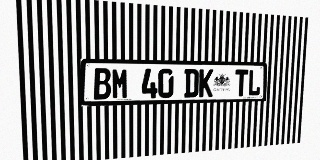0: (158, 69, 174, 98)
4: (142, 68, 158, 98)
B: (93, 68, 111, 99)
D: (184, 69, 199, 97)
K: (199, 69, 213, 97)
L: (248, 70, 261, 96)
M: (112, 68, 129, 99)
T: (234, 69, 248, 96)
